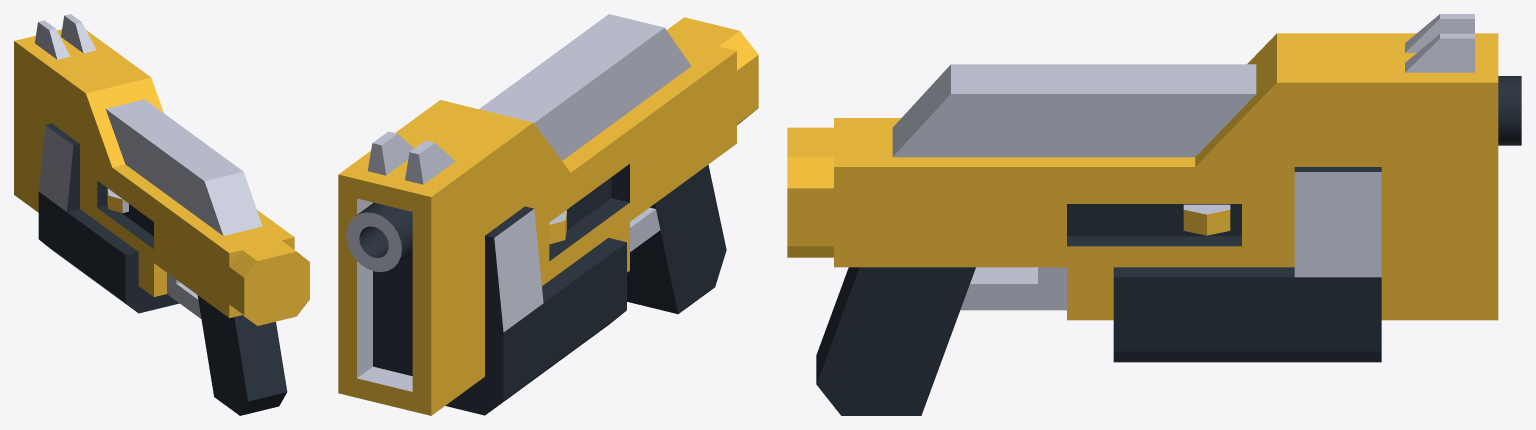
File: blasterM.obj
The picture shows the model from 3 angles, left to right: view 1: azimuth 30°, elevation 25°; view 2: azimuth 150°, elevation 25°; view 3: azimuth 270°, elevation 25°; orthographic projection. The views are drawn at different scales.
Visible parts, largest first — view 1: blasterM; view 2: blasterM; view 3: blasterM.
Part boxes in pixels (<box>): blasterM: <box>14,14,309,415</box>; blasterM: <box>338,14,758,415</box>; blasterM: <box>787,14,1521,415</box>.
Size of the model in its own units: 0.14 by 0.355 by 0.63.
